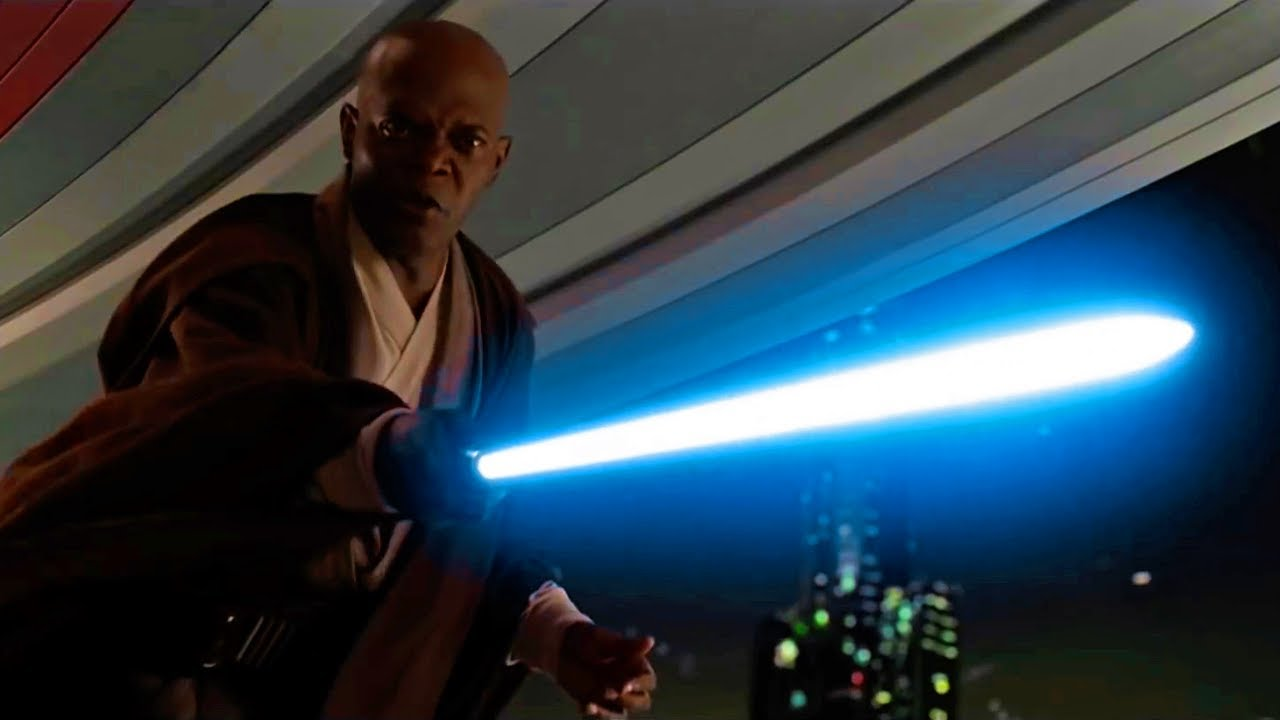lightsaber: (310, 263, 1238, 528)
